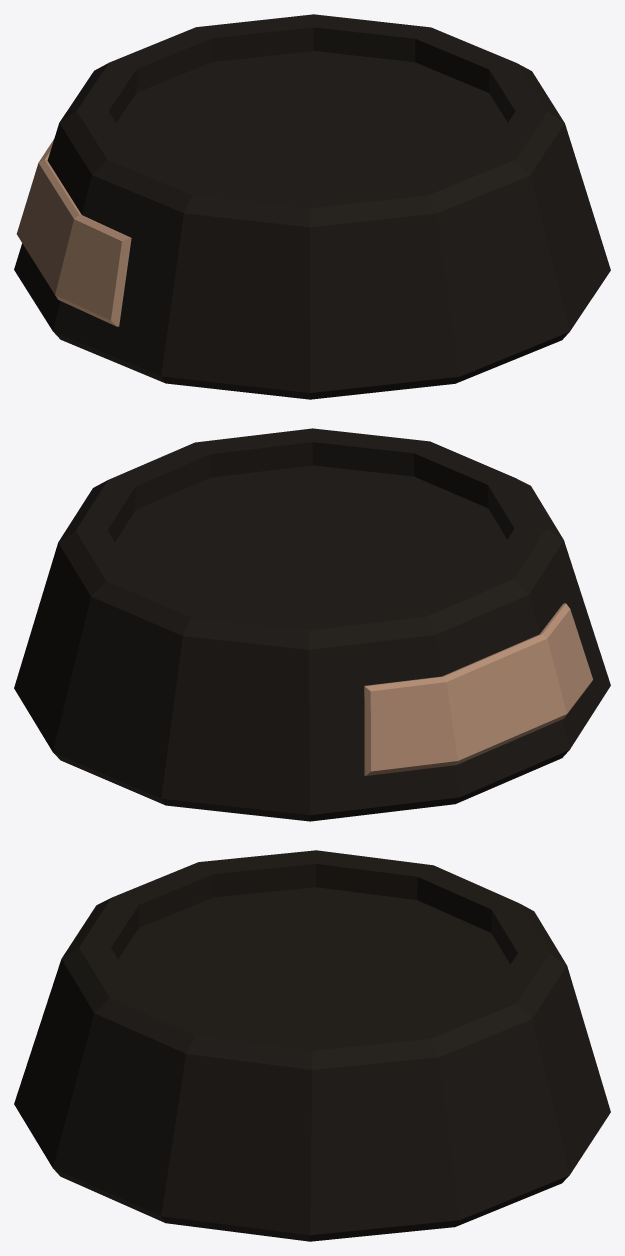
The model's file is ForPurpleBall.fbx.
The picture shows the model from 3 angles, top to bottom: view 1: azimuth 30°, elevation 25°; view 2: azimuth 150°, elevation 25°; view 3: azimuth 270°, elevation 25°; orthographic projection.
Visible parts, largest first — view 1: For ball.001; view 2: For ball.001; view 3: For ball.001.
Boxes of the visible parts, x1,y1,x2,y2 form: For ball.001: (14,14,610,399); For ball.001: (14,428,610,821); For ball.001: (14,850,610,1241).
Size of the model in its own units: 51.65 by 16.58 by 51.65.
